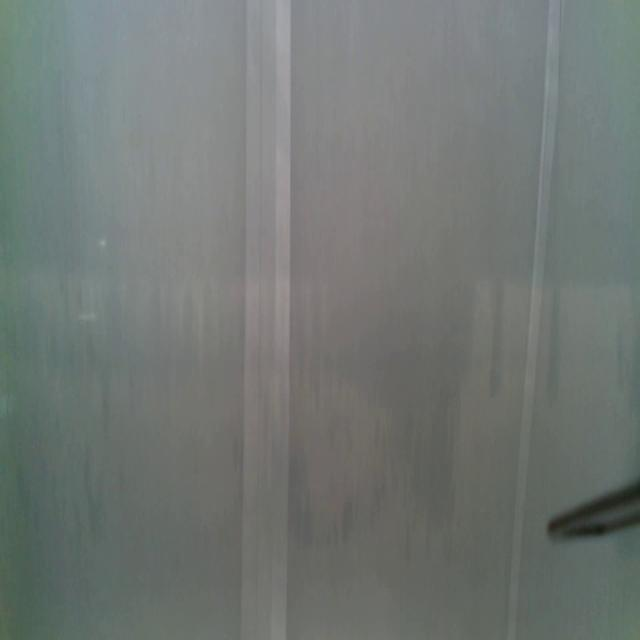crease: (507, 0, 560, 639), (242, 0, 290, 640)
